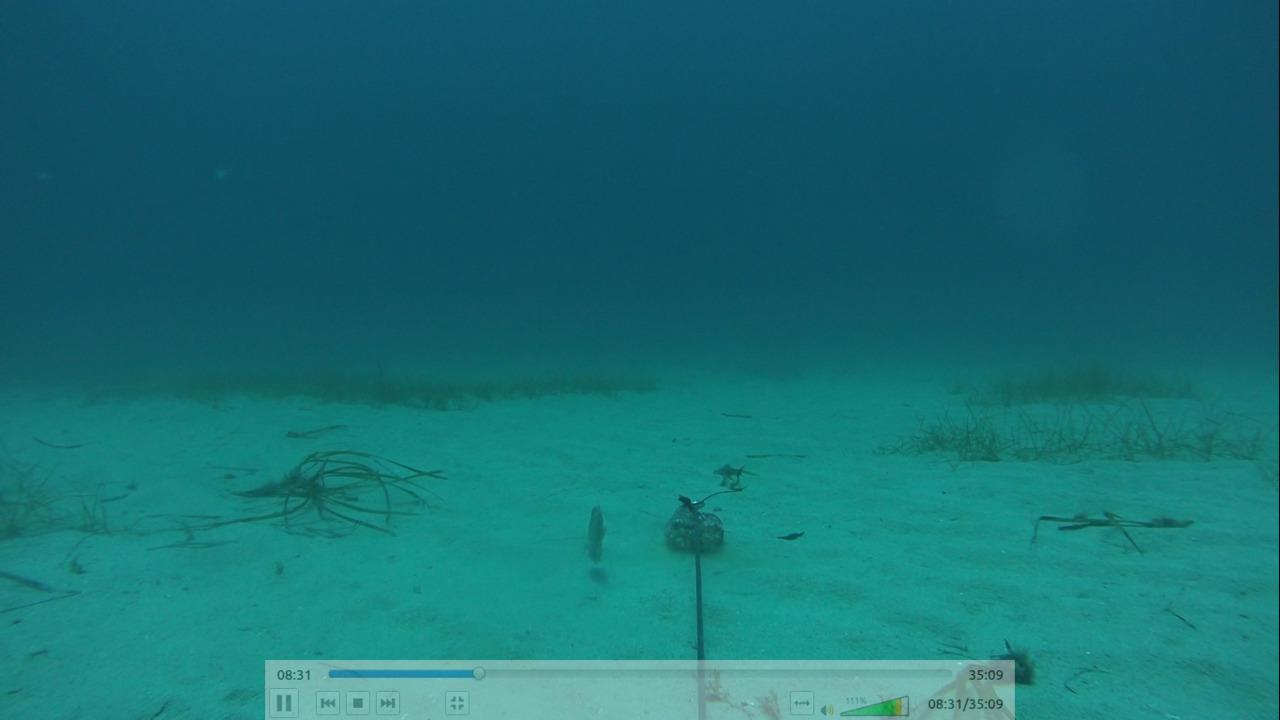raor: (572, 498, 616, 571)
